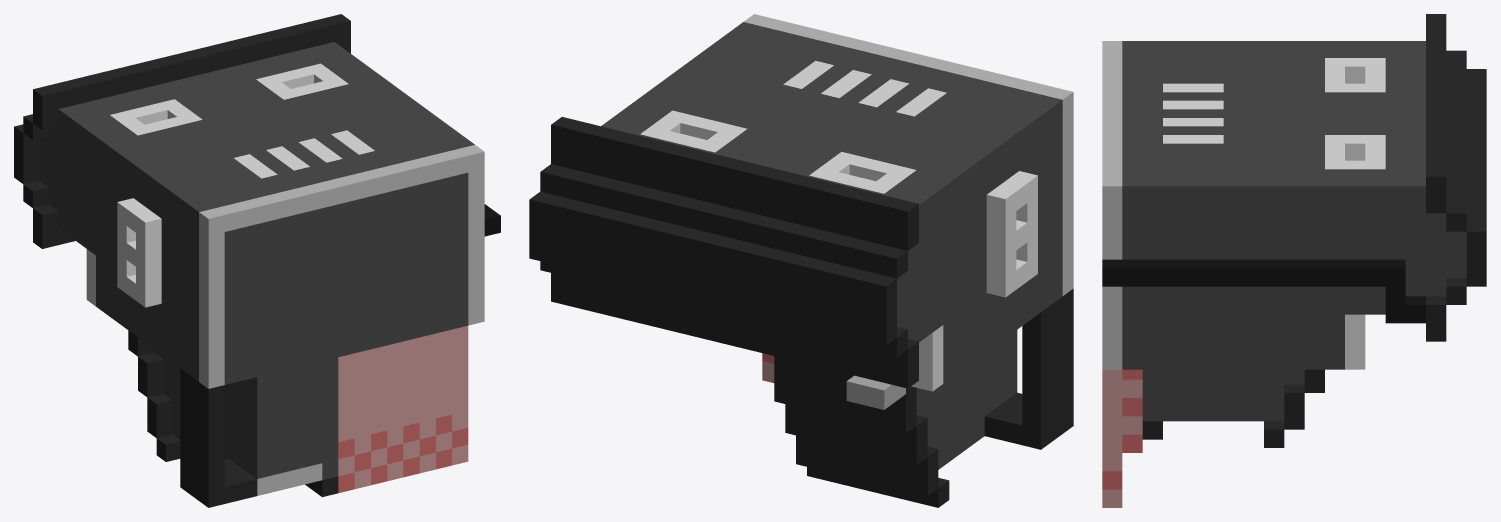
The model's file is yoshida9.fbx.
3 renders of one model, left to right at view 1: azimuth 30°, elevation 25°; view 2: azimuth 150°, elevation 25°; view 3: azimuth 270°, elevation 25°, orthographic. The views are drawn at different scales.
Parts seen in each view (by area): view 1: Default; view 2: Default; view 3: Default.
Boxes of the visible parts, bbox=[...] form: Default: bbox=[14, 14, 500, 507]; Default: bbox=[529, 14, 1073, 507]; Default: bbox=[1102, 14, 1486, 507].
Bounding box in the file's own units: 19 × 19 × 19.
Materials: 1 (1 with a texture image).
